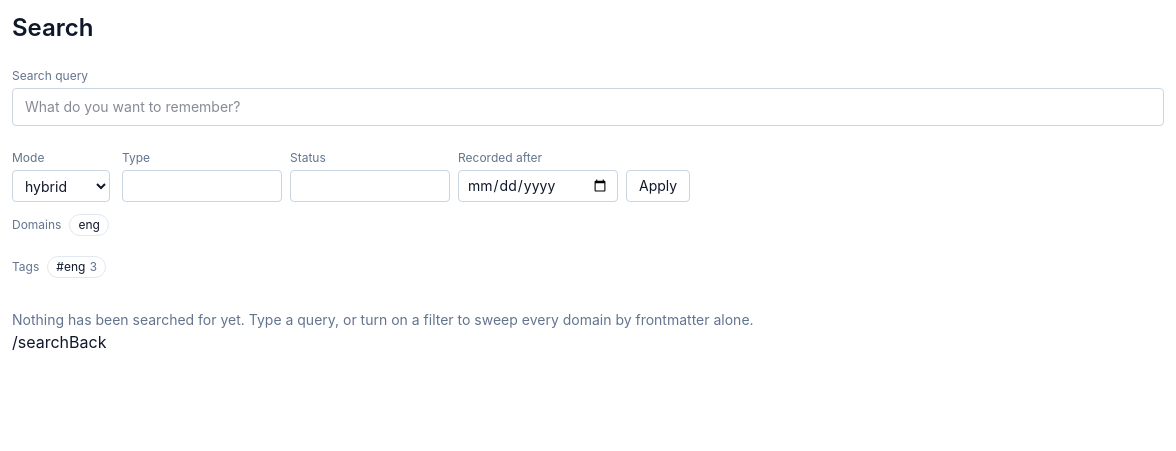
Test: the search screen › leaves the box alone while the URL it wrote settles
The image size is (1176, 451).
Type "rule " into the search field labelled "Search query" at {"x": 588, "y": 107}, box 12,88 -> 1164,126
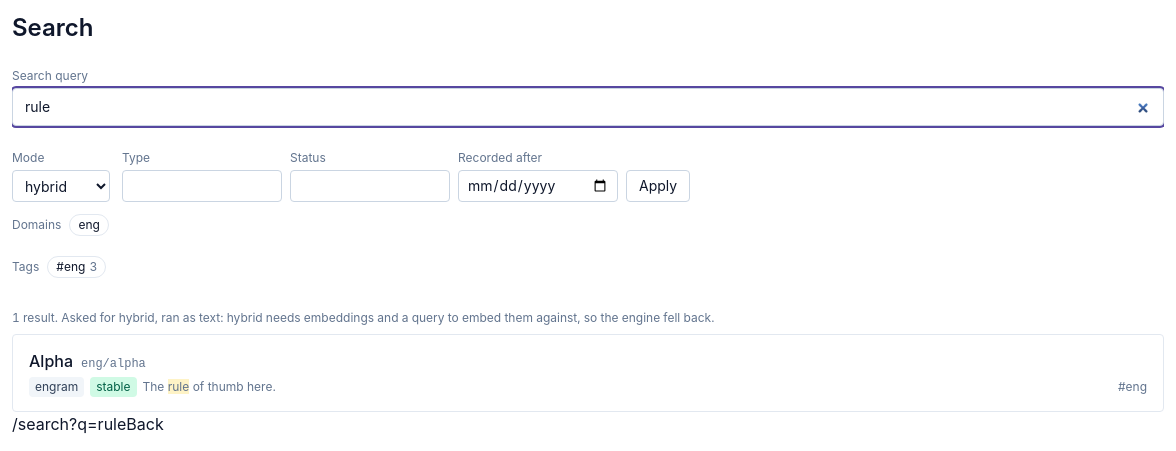
Check: the text with test id "url" reads "/search?q=rule", box 12,414 -> 126,434
